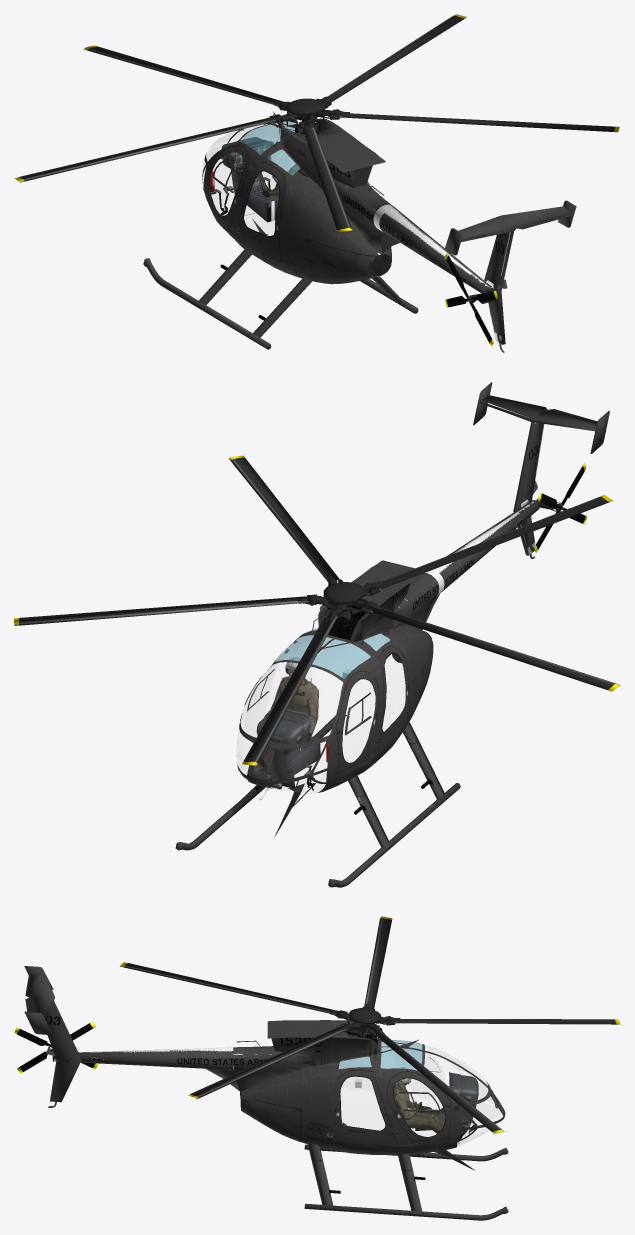
The picture shows the model from 3 angles, top to bottom: view 1: azimuth 30°, elevation 25°; view 2: azimuth 150°, elevation 25°; view 3: azimuth 270°, elevation 25°; orthographic projection. The views are drawn at different scales.
Parts seen in each view (by area): view 1: ext_fuselage1, rotor_main, ext_tail, ext_fuselage2, int_console, glasss_grn, rotor_tail, glass; view 2: rotor_main, ext_fuselage1, ext_fuselage2, ext_tail, int_console, glasss_grn, int_pilotR, glass, rotor_tail; view 3: ext_fuselage1, rotor_main, ext_tail, ext_fuselage2, glass, int_pilotR, glasss_grn, int_console, rotor_tail.
Boxes of the visible parts, box(x1,y1,x2,y2) form: ext_fuselage1: box(202, 111, 391, 278); rotor_main: box(14, 14, 619, 231); ext_tail: box(344, 183, 576, 353); ext_fuselage2: box(143, 118, 418, 349); int_console: box(210, 137, 278, 222); glasss_grn: box(239, 121, 299, 175); rotor_tail: box(444, 253, 497, 346); glass: box(203, 125, 275, 214); rotor_main: box(14, 455, 620, 765); ext_fuselage1: box(236, 579, 439, 837); ext_fuselage2: box(175, 560, 460, 887); ext_tail: box(404, 382, 609, 621); int_console: box(256, 706, 329, 788); glasss_grn: box(275, 628, 389, 678); int_pilotR: box(269, 657, 318, 774); glass: box(237, 663, 311, 792); rotor_tail: box(534, 463, 586, 552); ext_fuselage1: box(233, 1027, 495, 1170); rotor_main: box(120, 916, 620, 1133); ext_tail: box(24, 966, 281, 1107); ext_fuselage2: box(240, 1020, 508, 1220); glass: box(343, 1045, 500, 1146); int_pilotR: box(393, 1067, 463, 1138); glasss_grn: box(338, 1040, 422, 1070); int_console: box(415, 1072, 478, 1135); rotor_tail: box(14, 1022, 98, 1073).
Bounding box in the file's own units: 7.48 × 3.44 × 9.23.
Materials: 8 (8 with a texture image).
